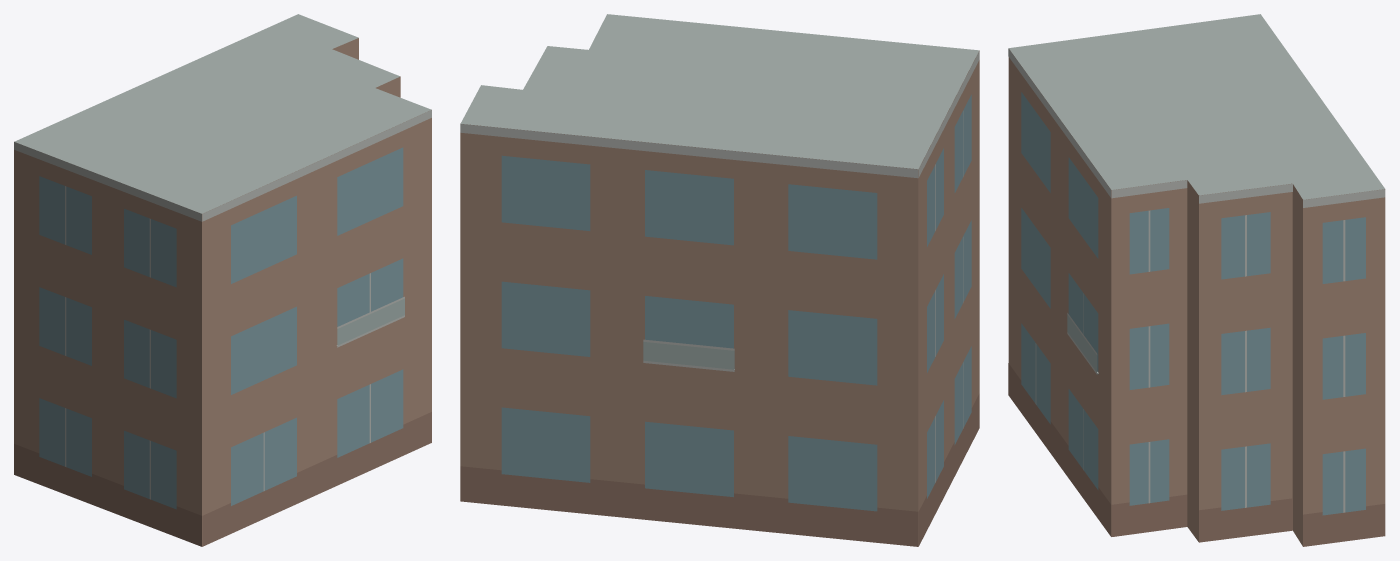
The model's file is survey-upis-32987907.glb.
3 views of the same model, side by side, from view 1: azimuth 30°, elevation 25°; view 2: azimuth 150°, elevation 25°; view 3: azimuth 270°, elevation 25° (orthographic). The views are drawn at different scales.
Visible parts, largest first — view 1: survey-upis-32987907.tmp; view 2: survey-upis-32987907.tmp; view 3: survey-upis-32987907.tmp.
Boxes of the visible parts, x1,y1,x2,y2 form: survey-upis-32987907.tmp: (14, 14, 431, 546); survey-upis-32987907.tmp: (460, 14, 979, 546); survey-upis-32987907.tmp: (1008, 14, 1385, 546).
Size of the model in its own units: 11.72 by 10.2 by 10.05.
